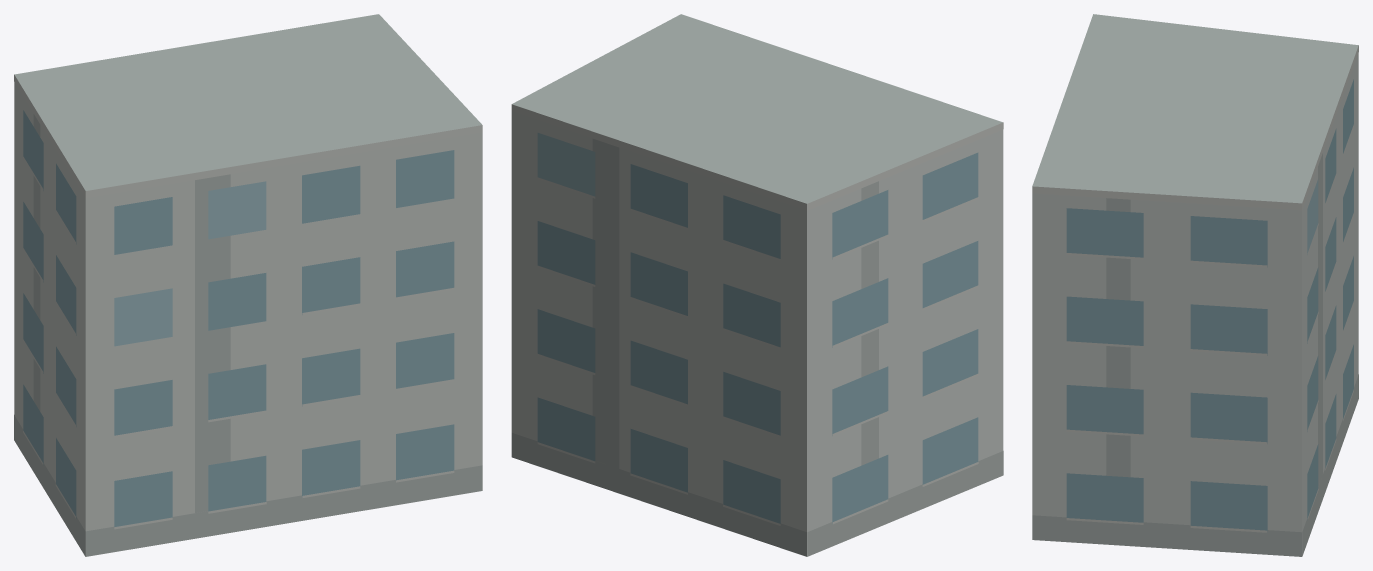
The model's file is survey-upis-32725864.glb.
The picture shows the model from 3 angles, left to right: view 1: azimuth 30°, elevation 25°; view 2: azimuth 150°, elevation 25°; view 3: azimuth 270°, elevation 25°; orthographic projection. The views are drawn at different scales.
Visible parts, largest first — view 1: survey-upis-32725864.tmp; view 2: survey-upis-32725864.tmp; view 3: survey-upis-32725864.tmp.
Part boxes in pixels (x1=…): survey-upis-32725864.tmp: x1=14, y1=14, x2=482, y2=556; survey-upis-32725864.tmp: x1=511, y1=14, x2=1003, y2=556; survey-upis-32725864.tmp: x1=1032, y1=14, x2=1358, y2=556.
Size of the model in its own units: 14.02 by 12.2 by 10.22.
